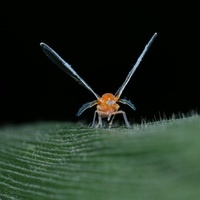insect: (40, 32, 156, 127)
